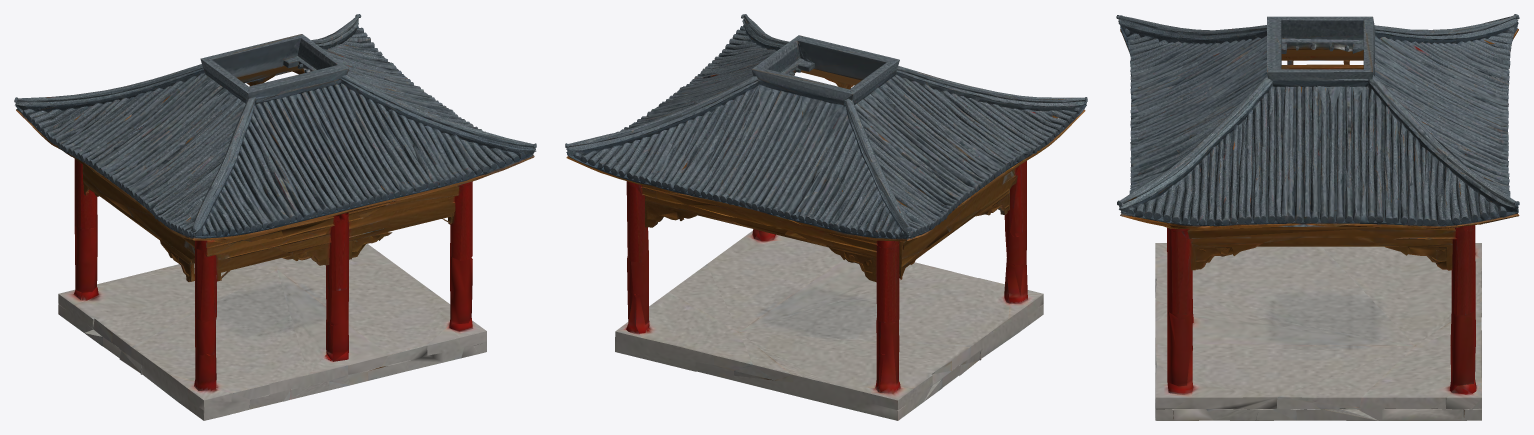
Rendered from pavilion.glb.
3 renders of one model, left to right at view 1: azimuth 30°, elevation 25°; view 2: azimuth 150°, elevation 25°; view 3: azimuth 270°, elevation 25°, orthographic. The views are drawn at different scales.
Size of the model in its own units: 1.9 by 1.41 by 1.71.
Materials: 1 (1 with a texture image).
